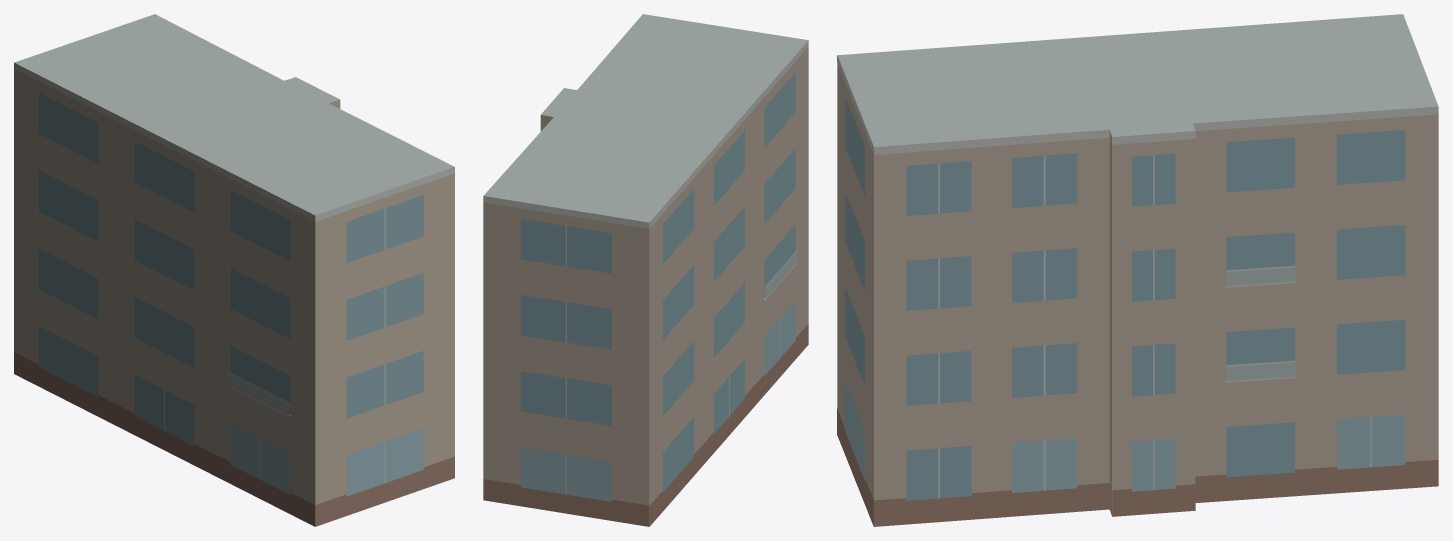
File: survey-upis-32997379.glb
3 renders of one model, left to right at view 1: azimuth 30°, elevation 25°; view 2: azimuth 150°, elevation 25°; view 3: azimuth 270°, elevation 25°, orthographic. The views are drawn at different scales.
Parts seen in each view (by area): view 1: survey-upis-32997379.tmp; view 2: survey-upis-32997379.tmp; view 3: survey-upis-32997379.tmp.
Part boxes in pixels (x1,y1,x2,y2): survey-upis-32997379.tmp: (14,14,454,526); survey-upis-32997379.tmp: (483,14,808,526); survey-upis-32997379.tmp: (837,14,1438,526).
Size of the model in its own units: 8.88 by 11.8 by 16.95.
